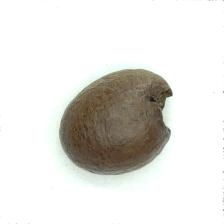NG: (146, 77, 175, 137)
